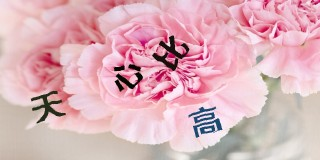天: (30, 88, 67, 124)
心: (112, 62, 144, 92)
比: (152, 32, 191, 71)
高: (188, 105, 223, 138)
